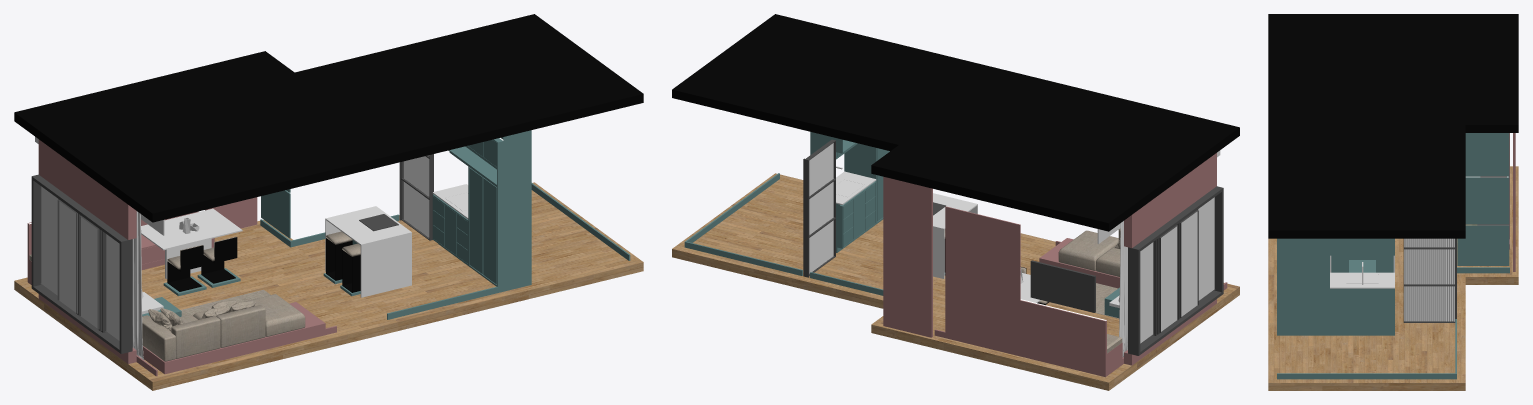
File: uploads_files_3346323_p1.glb
3 renders of one model, left to right at view 1: azimuth 30°, elevation 25°; view 2: azimuth 150°, elevation 25°; view 3: azimuth 270°, elevation 25°, orthographic. The views are drawn at different scales.
Visible parts, largest first — view 1: Cube.011, Cube.010, Cube.040, Cube.001, Cube.050, Cube.018, Cube, Cube.008, Cube.004, Cube.056, Cube.003, Cube.015 (+14 smaller); view 2: Cube.011, Cube.010, Cube.027, Cube.013, Cube.040, Cube.050, Cube.008, Cube.022, Cube.017, Cube.056, Cube.018, Cube.015 (+6 smaller); view 3: Cube.011, Cube.010, Cube.047, Cube.001, Cube.022, Cube.015, Cube.056, Cube.025, Cube.045, Cube.057, Cube.049, Cube.013 (+1 smaller).
Boxes of the visible parts, box(x1,y1,x2,y2) form: Cube.011: box(14, 14, 643, 222); Cube.010: box(14, 182, 643, 390); Cube.040: box(41, 186, 119, 340); Cube.001: box(468, 165, 531, 286); Cube.050: box(31, 174, 132, 353); Cube.018: box(142, 294, 305, 361); Cube: box(325, 206, 411, 297); Cube.008: box(38, 139, 136, 364); Cube.004: box(143, 302, 325, 374); Cube.056: box(136, 183, 630, 376); Cube.003: box(141, 208, 242, 250); Cube.015: box(432, 194, 531, 291); Cube.011: box(672, 14, 1239, 231); Cube.010: box(672, 173, 1239, 390); Cube.027: box(945, 206, 1106, 377); Cube.013: box(883, 176, 932, 337); Cube.040: box(1140, 197, 1214, 343); Cube.050: box(1128, 186, 1223, 355); Cube.008: box(1124, 153, 1216, 365); Cube.022: box(809, 143, 833, 273); Cube.017: box(1030, 260, 1095, 312); Cube.056: box(684, 173, 1227, 365); Cube.018: box(1058, 228, 1120, 276); Cube.015: box(836, 181, 882, 252); Cube.011: box(1268, 14, 1518, 238); Cube.010: box(1268, 166, 1518, 390); Cube.047: box(1457, 133, 1509, 265); Cube.001: box(1277, 239, 1329, 330); Cube.022: box(1404, 238, 1454, 321); Cube.015: box(1277, 288, 1394, 335); Cube.056: box(1277, 239, 1509, 379); Cube.025: box(1331, 255, 1393, 272); Cube.045: box(1330, 239, 1394, 255); Cube.057: box(1330, 272, 1394, 288); Cube.049: box(1403, 238, 1456, 322); Cube.013: box(1513, 133, 1515, 271).
Bounding box in the file's own units: 8.82 × 3 × 4.25.
16 materials, 2 textured.
